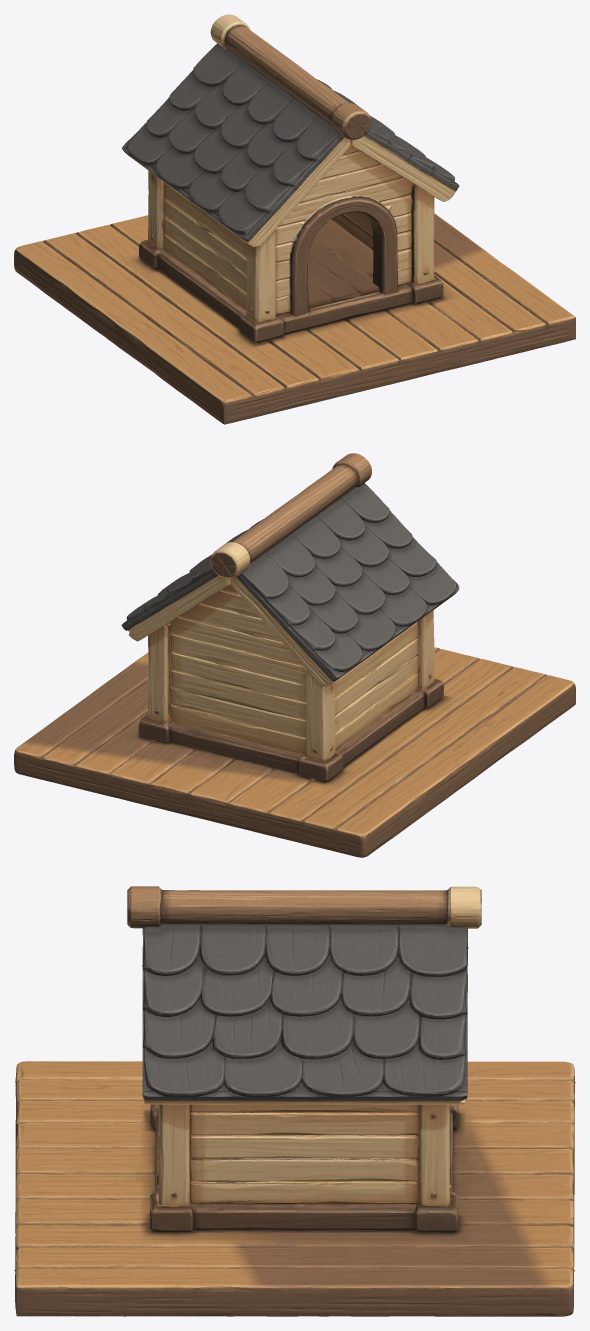
File: bowl_water_9.glb
3 renders of one model, top to bottom at view 1: azimuth 30°, elevation 25°; view 2: azimuth 150°, elevation 25°; view 3: azimuth 270°, elevation 25°, orthographic. The views are drawn at different scales.
Visible parts, largest first — view 1: tripo_node_48e93136-8c49-4417-897f-4277f6f20665; view 2: tripo_node_48e93136-8c49-4417-897f-4277f6f20665; view 3: tripo_node_48e93136-8c49-4417-897f-4277f6f20665.
Boxes of the visible parts, <box> form: tripo_node_48e93136-8c49-4417-897f-4277f6f20665: <box>14,14,575,424</box>; tripo_node_48e93136-8c49-4417-897f-4277f6f20665: <box>14,453,575,857</box>; tripo_node_48e93136-8c49-4417-897f-4277f6f20665: <box>14,886,575,1316</box>.
Bounding box in the file's own units: 0.943 × 0.6123 × 0.9863.
Materials: 1 (1 with a texture image).
